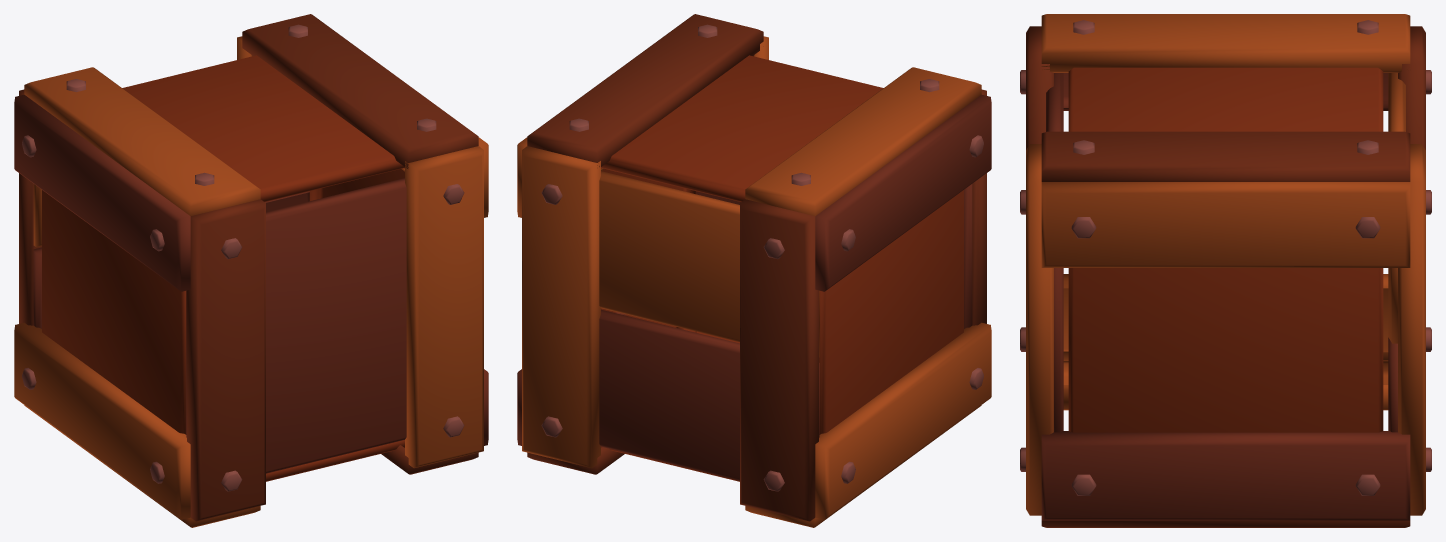
The picture shows the model from 3 angles, left to right: view 1: azimuth 30°, elevation 25°; view 2: azimuth 150°, elevation 25°; view 3: azimuth 270°, elevation 25°; orthographic projection. The views are drawn at different scales.
Visible parts, largest first — view 1: Vert.055; view 2: Vert.055; view 3: Vert.055.
Part boxes in pixels (x1=…): Vert.055: x1=14, y1=14, x2=488, y2=527; Vert.055: x1=517, y1=14, x2=991, y2=527; Vert.055: x1=1020, y1=14, x2=1431, y2=527.
Size of the model in its own units: 103 by 103 by 103.
